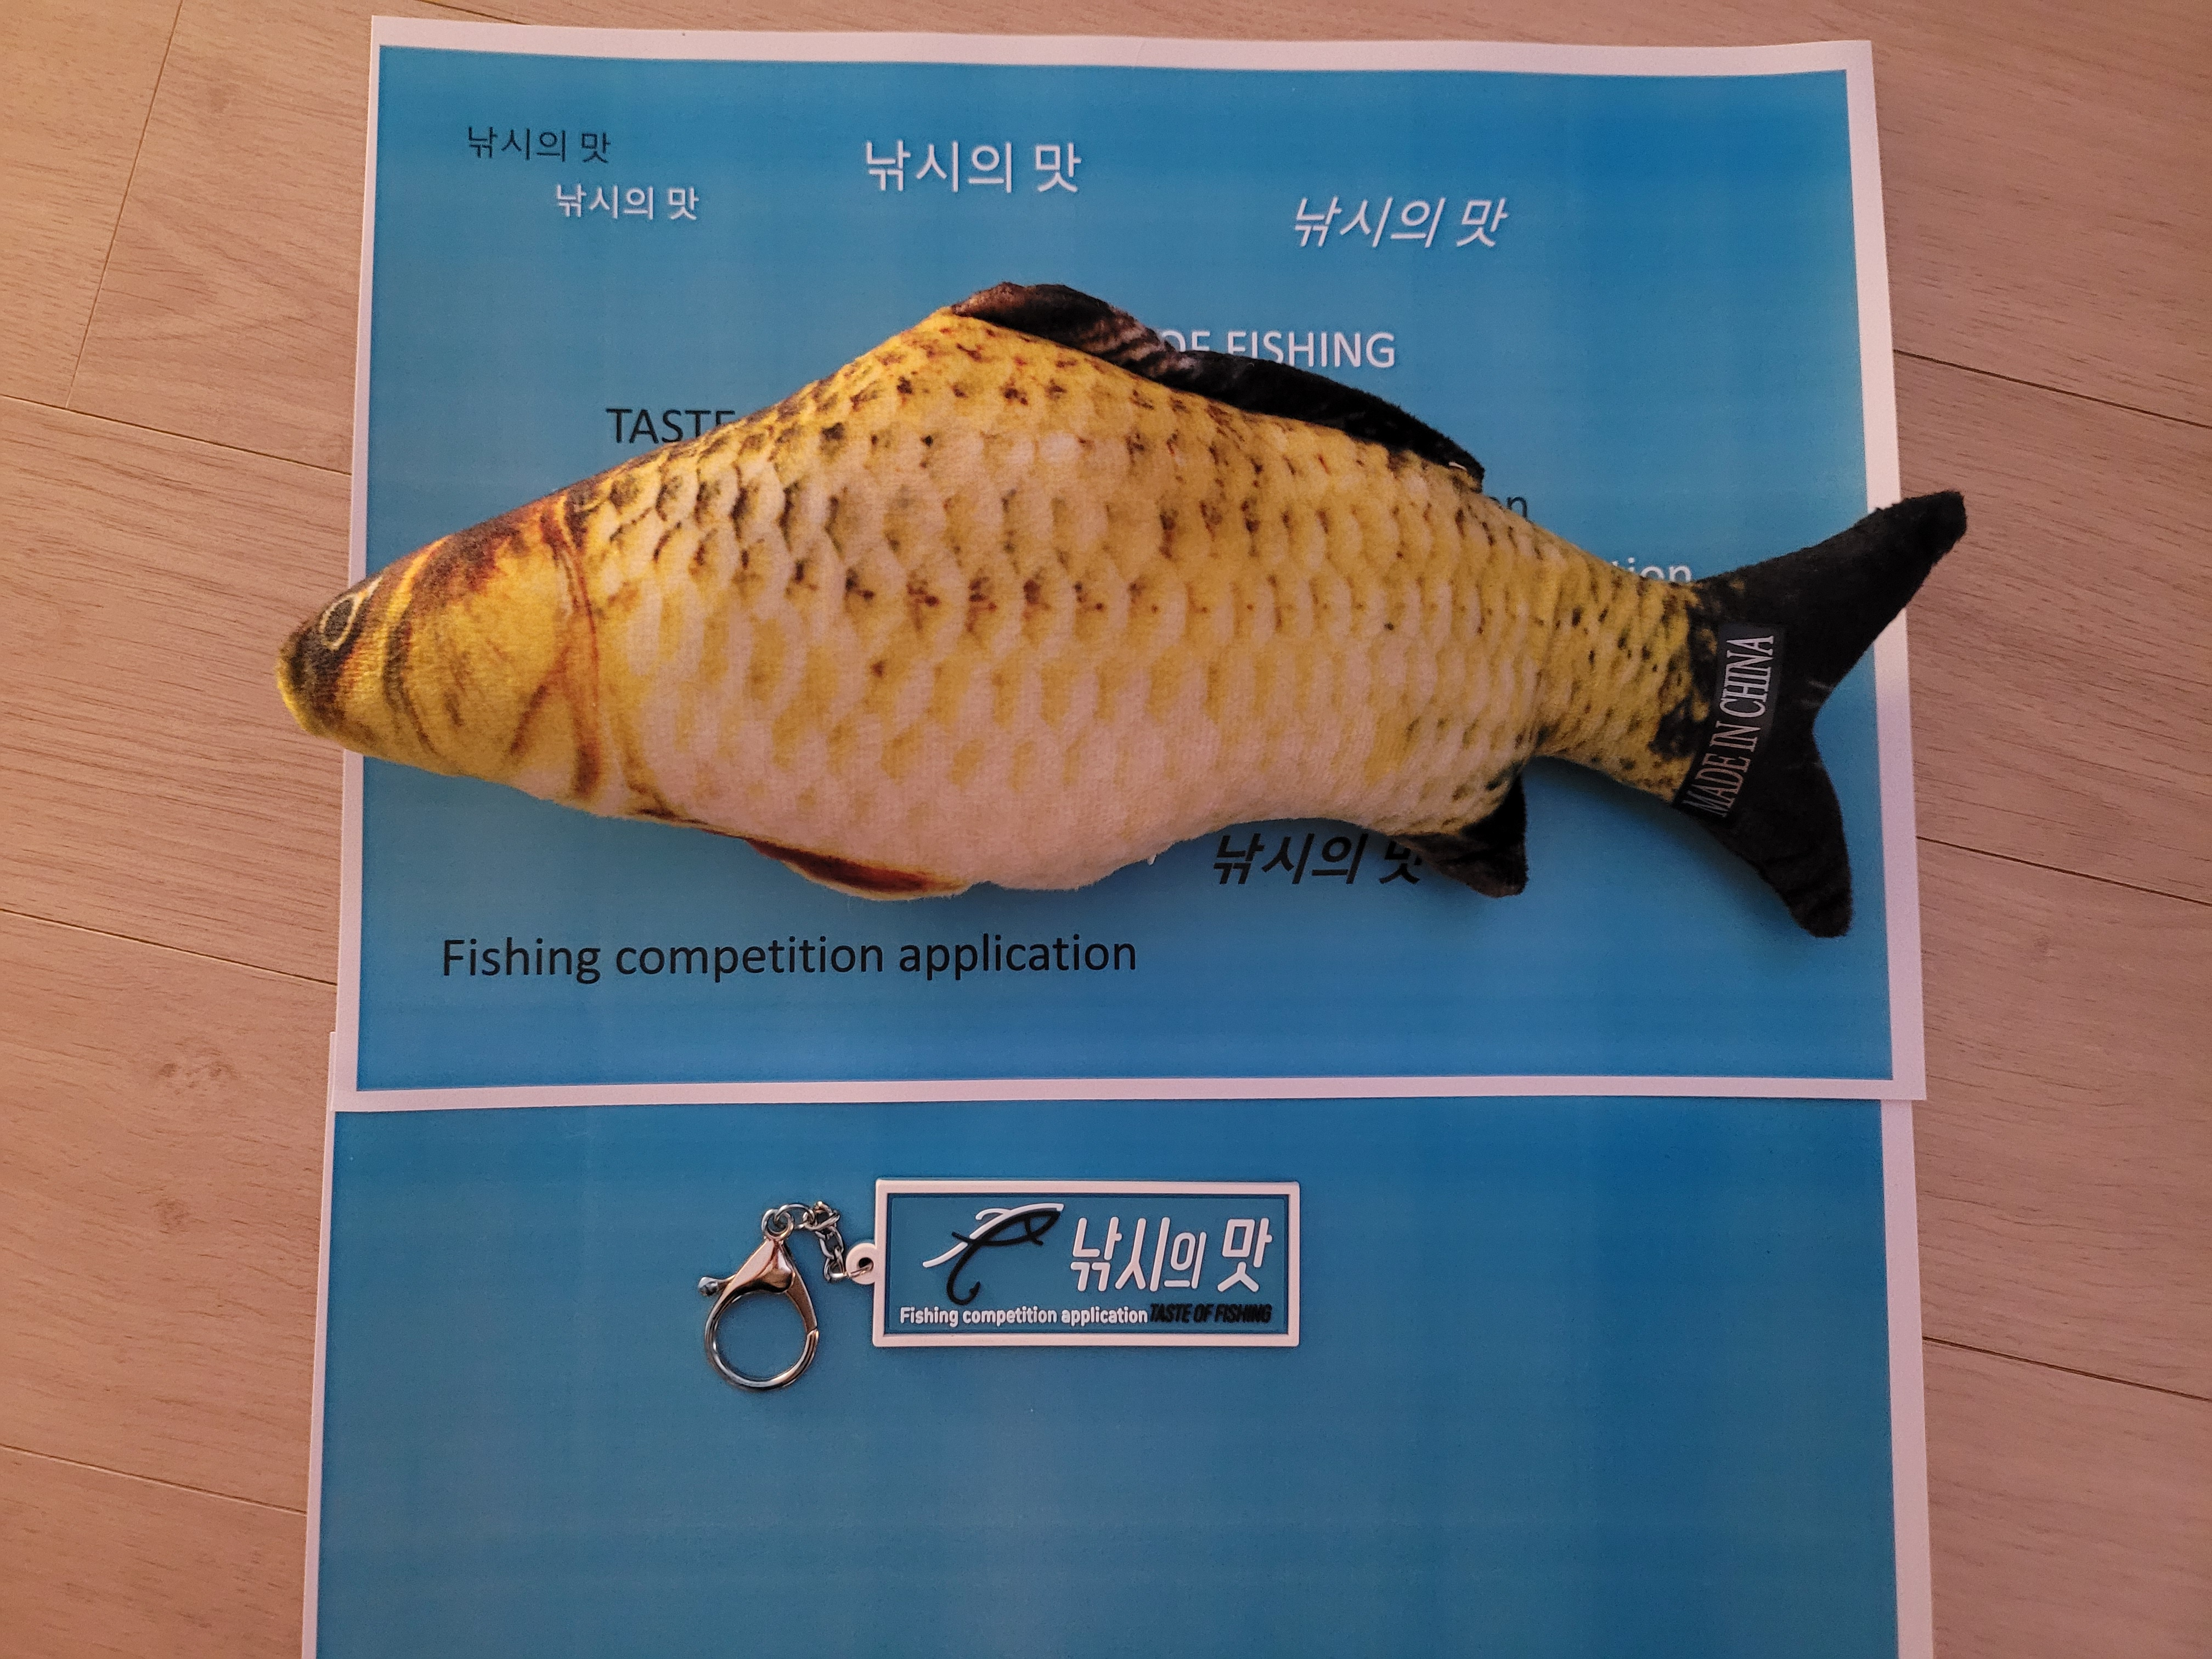fish: (280, 284, 1966, 941), (874, 1178, 1303, 1349)
